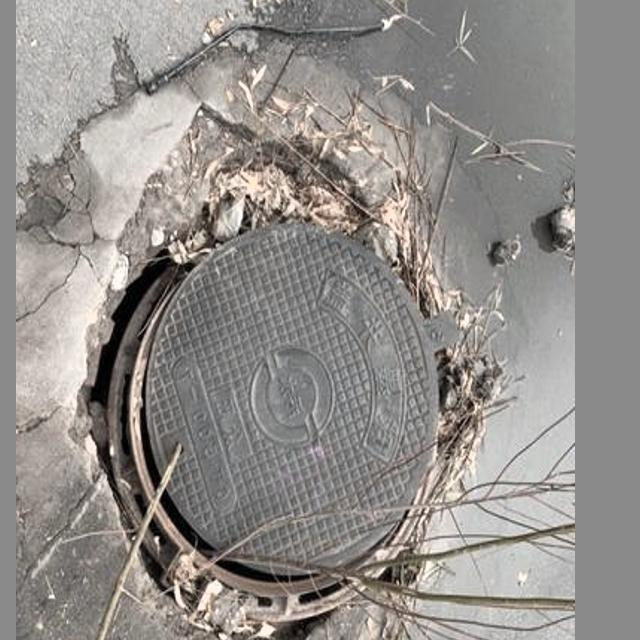circle: (24, 37, 519, 640)
